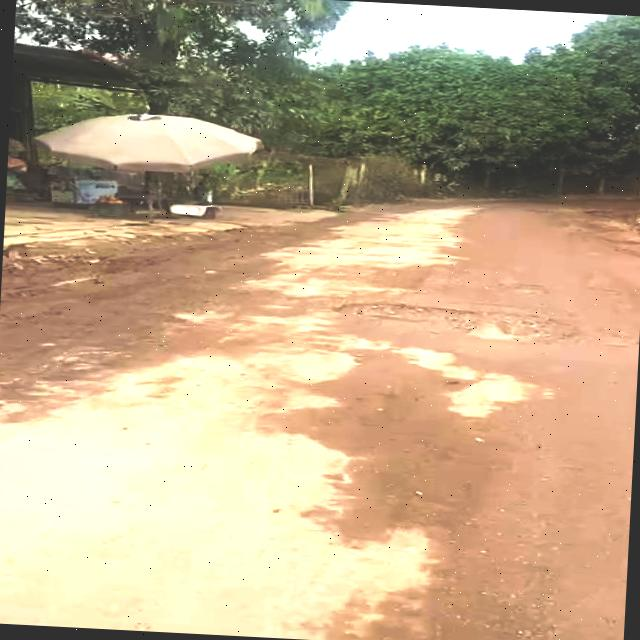pothole: (332, 296, 584, 351), (499, 283, 555, 300)
